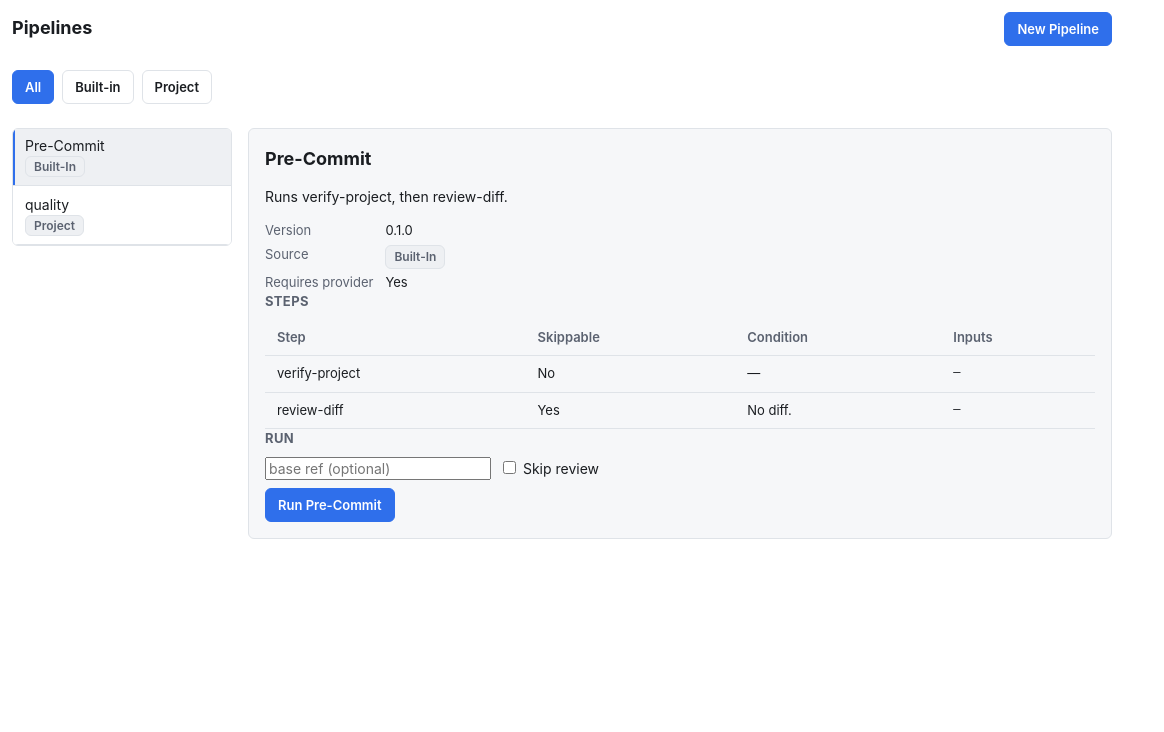
Test: PipelinesPage › executes a pipeline and shows the result
What coordinates should you click on to do the following:
click the button "Run Pre-Commit"
I would click on:
 (330, 504)
Its box is top-left (265, 488), bottom-right (395, 522).
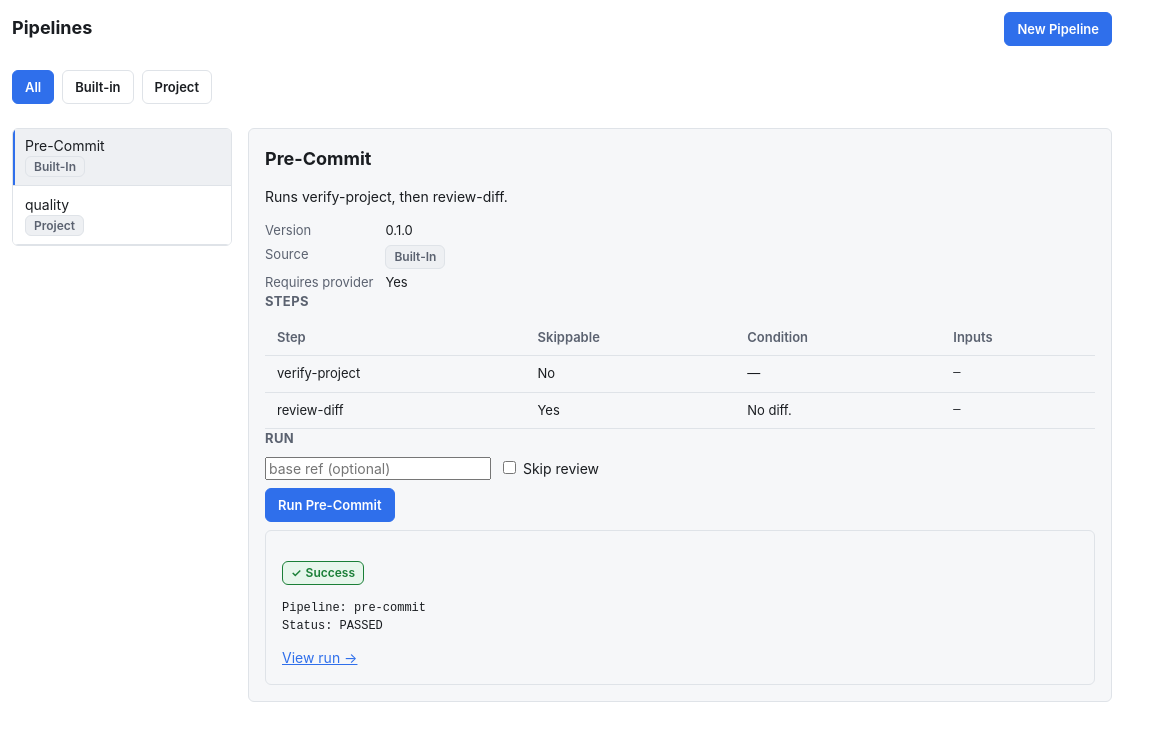
Expected: the text "Pipeline: pre-commit Status: PASSED" is shown, top-left (282, 600), bottom-right (426, 632)
Expected: the link "View run →" is shown, top-left (282, 648), bottom-right (358, 666)
